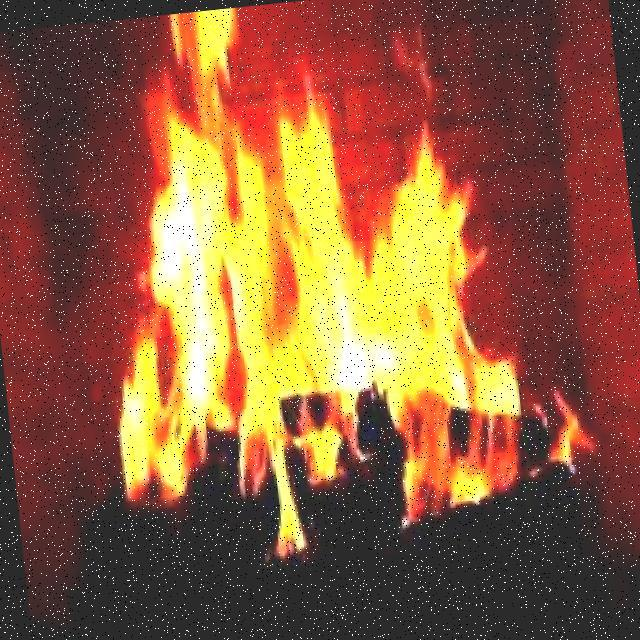Fire: (131, 23, 520, 500)
